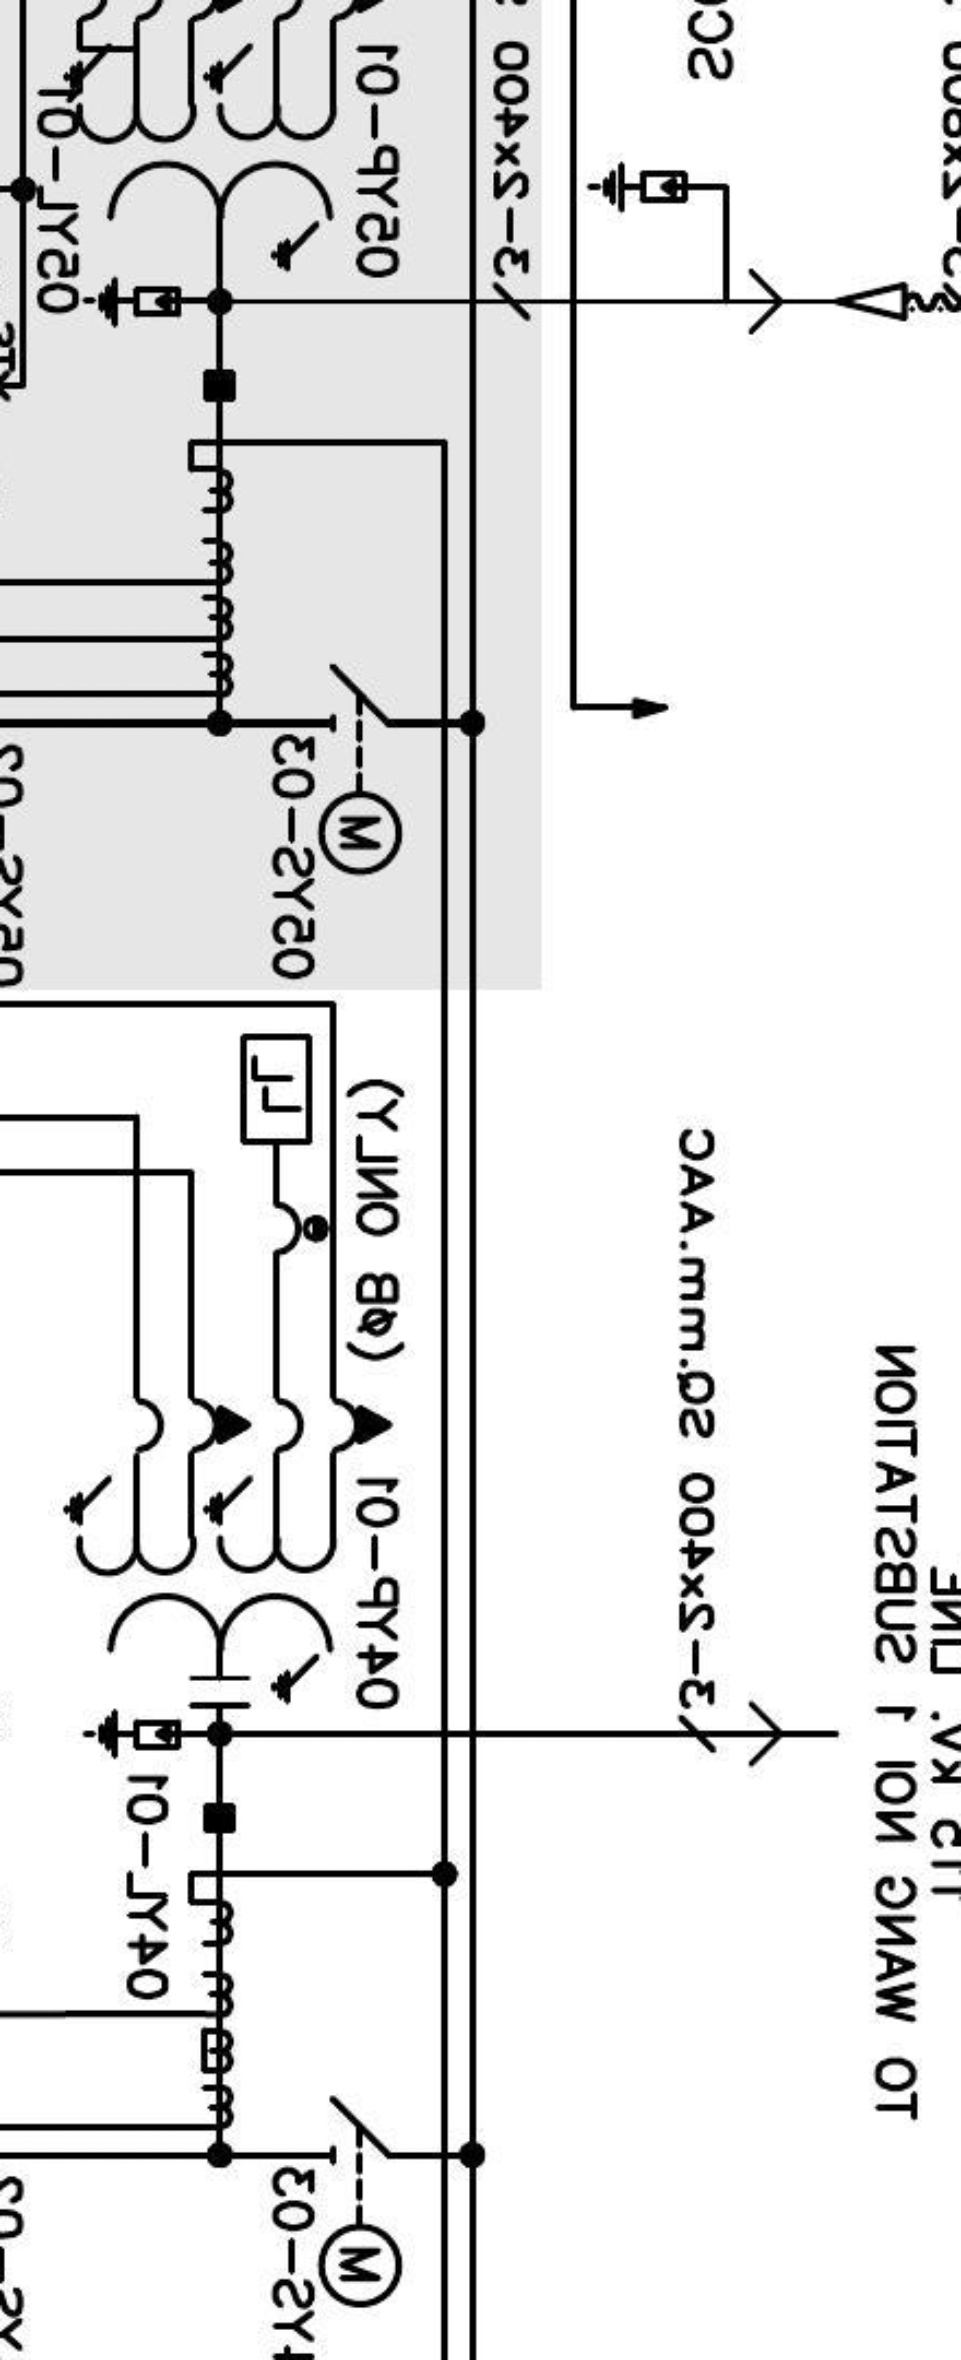115_1way_ds_w_motor: (316, 2094, 405, 2309), (316, 662, 405, 877)
115_cvt_1p: (60, 1392, 395, 1710)
115_la: (584, 161, 688, 214), (80, 275, 181, 328), (81, 1708, 182, 1759)
LL: (239, 1032, 312, 1145)
